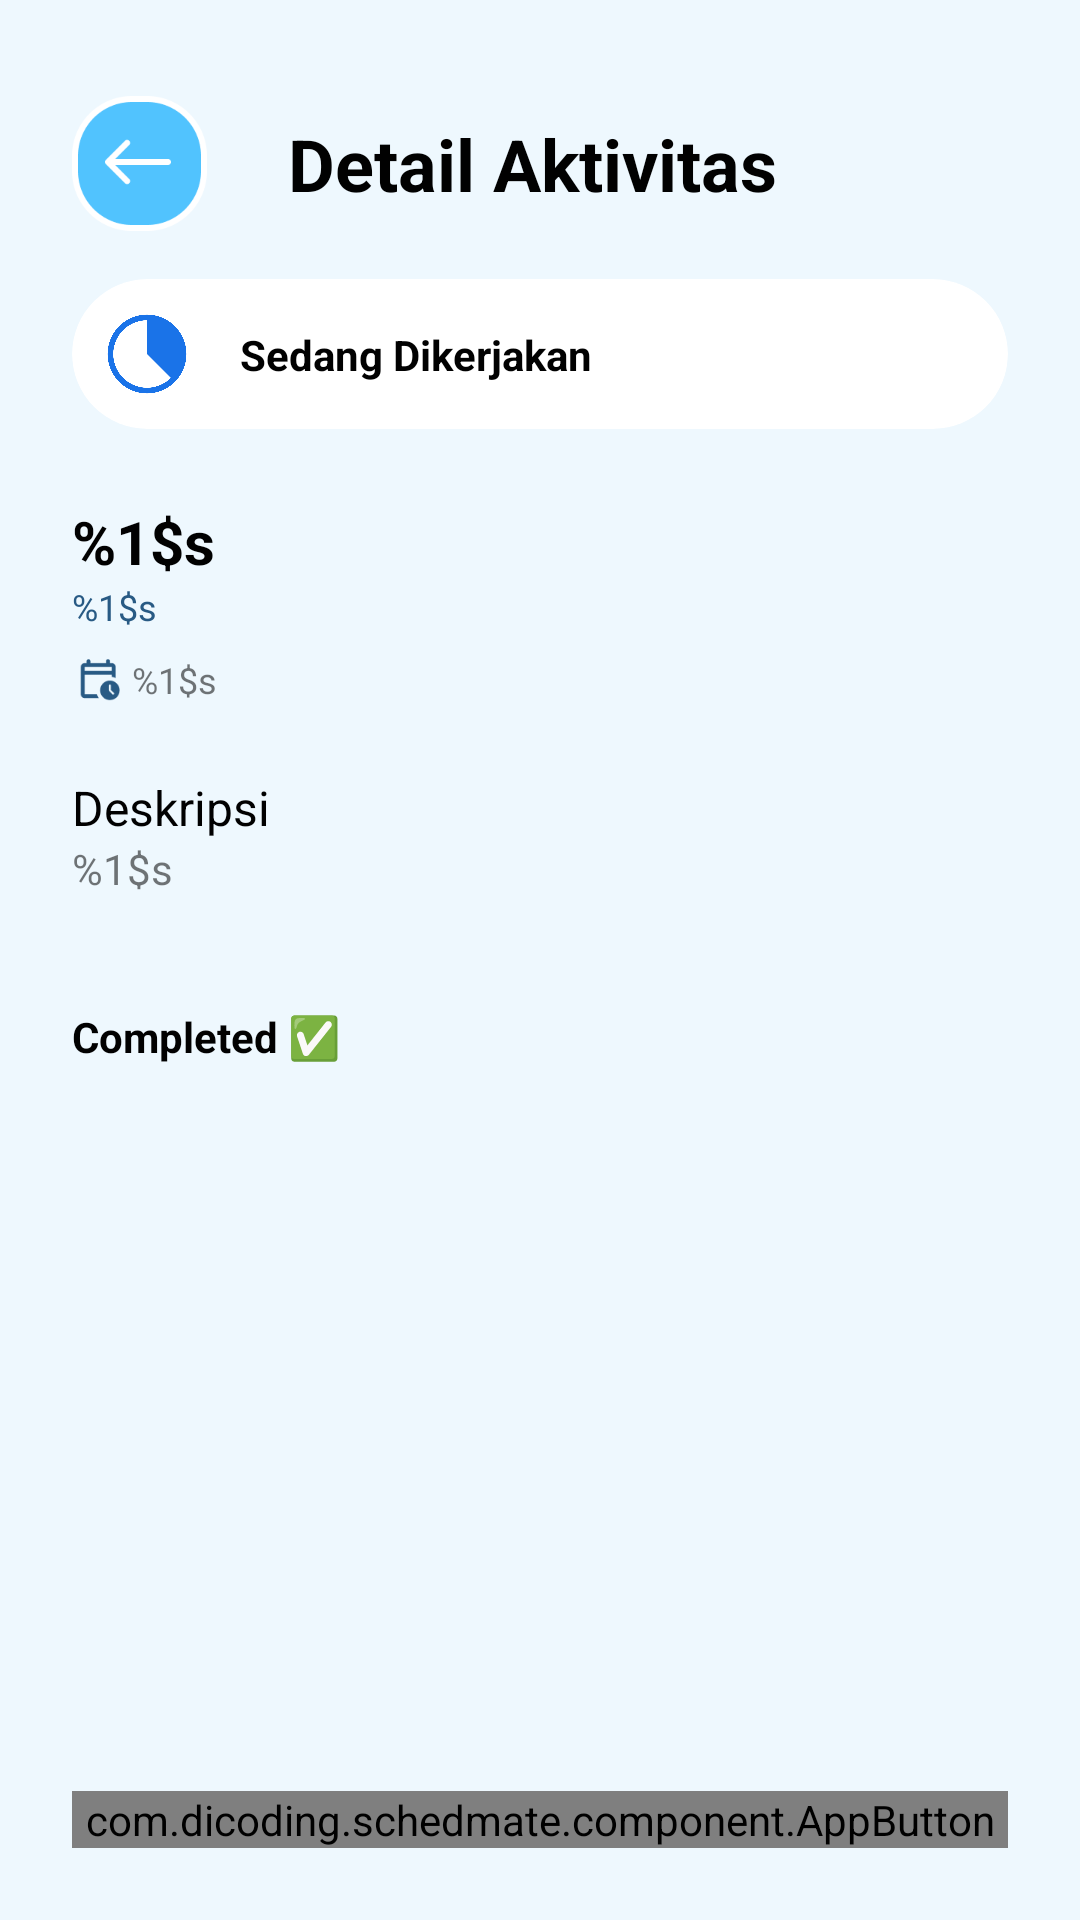

Screen size 1080x1920. Icon name, then its box in pixels as {"left": x1, "top": y1, "right": x2, "bottom": y2}:
back: {"left": 78, "top": 102, "right": 201, "bottom": 225}
calendar clock: {"left": 80, "top": 659, "right": 120, "bottom": 701}
in progress: {"left": 108, "top": 315, "right": 186, "bottom": 393}
